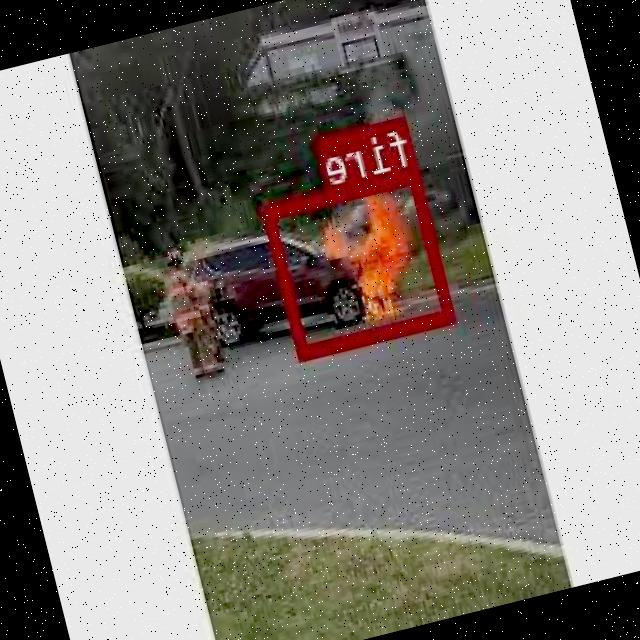fire: (263, 164, 457, 358)
